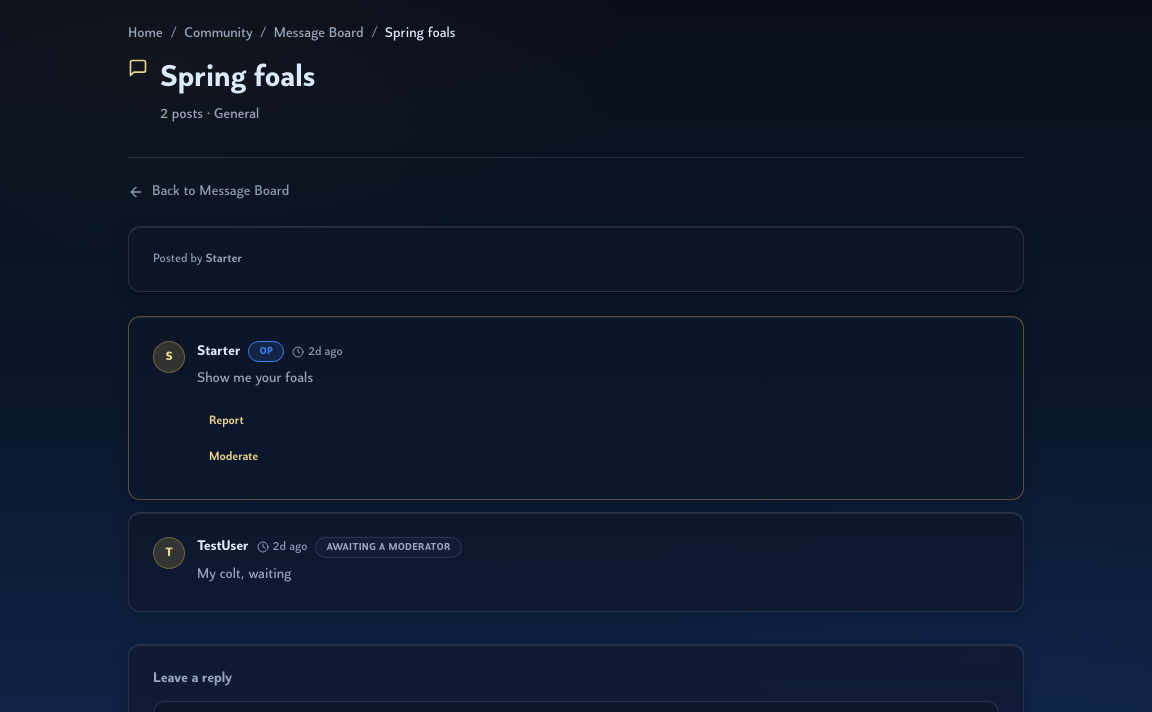
Test case: MessageThreadPage: held posts and steward tools › lets a moderator edit a player's post with a reason, and not their own
Click the button "Moderate": (234,457) [197,439,270,475]
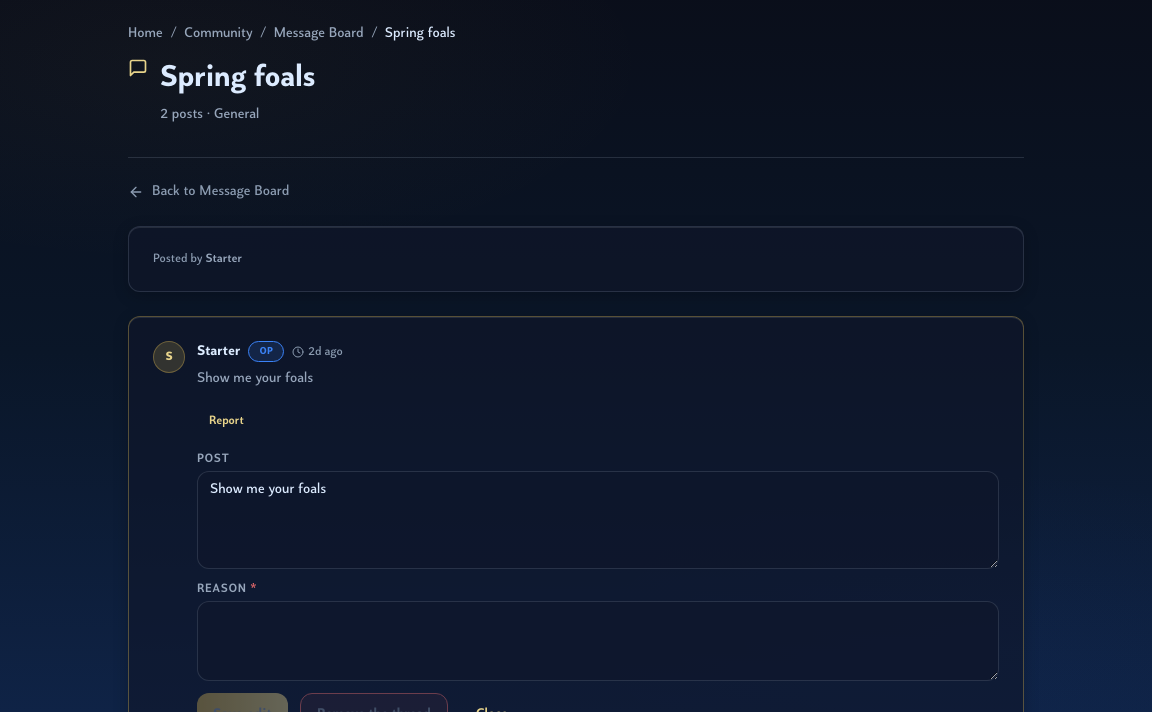
Replace the text in the text box labelled "Post" with "Show me your foals (edited)": (598,520) [197,471,999,569]
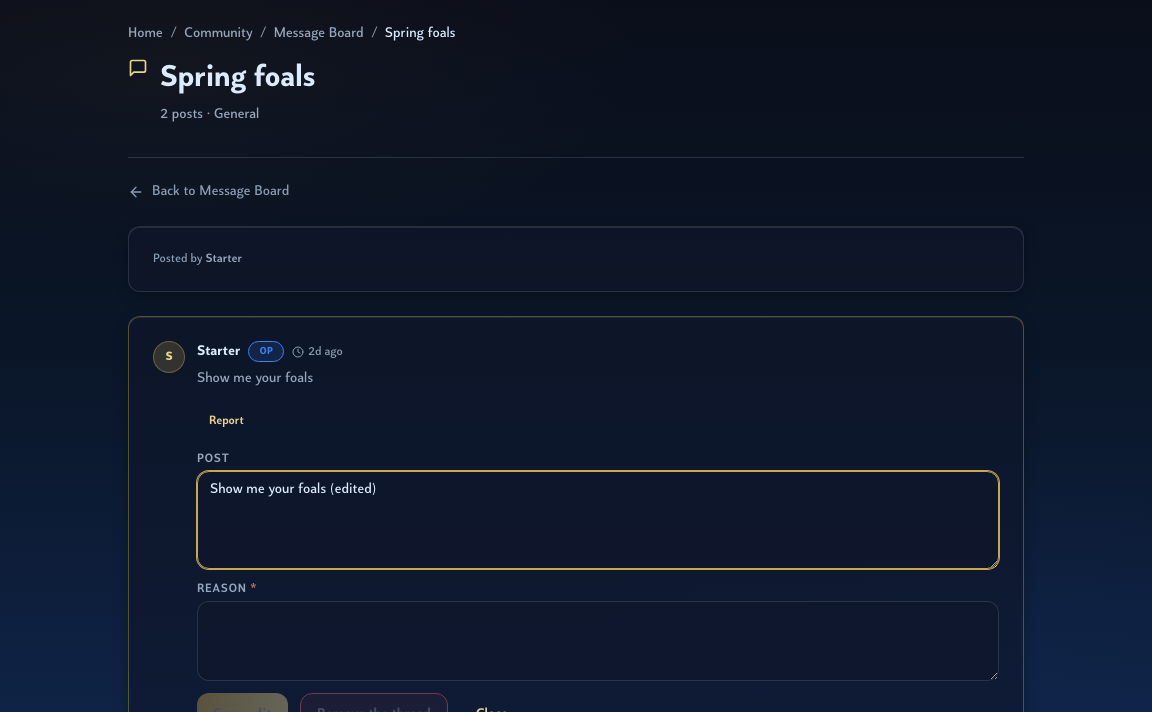
In the text box labelled "Reason *": (598,641) [197,601,999,681], type "Removed a phone number"
(page scrolled)
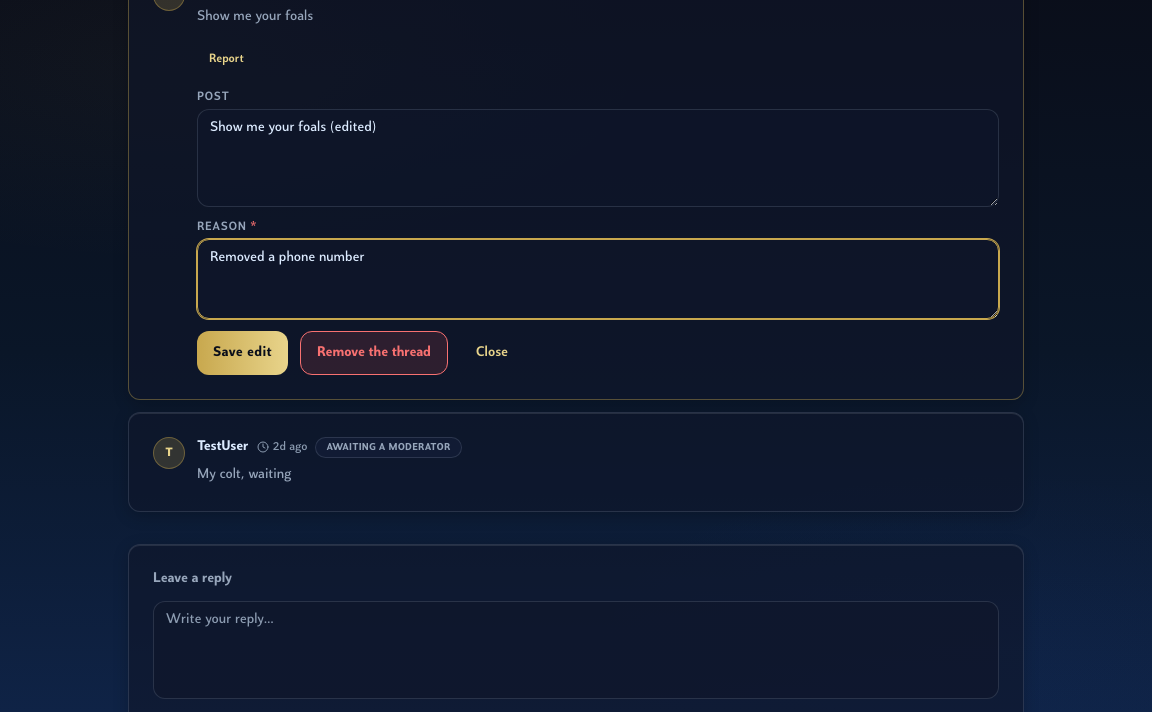
Click the button "Save edit": (242,353) [197,331,288,375]
(page scrolled)
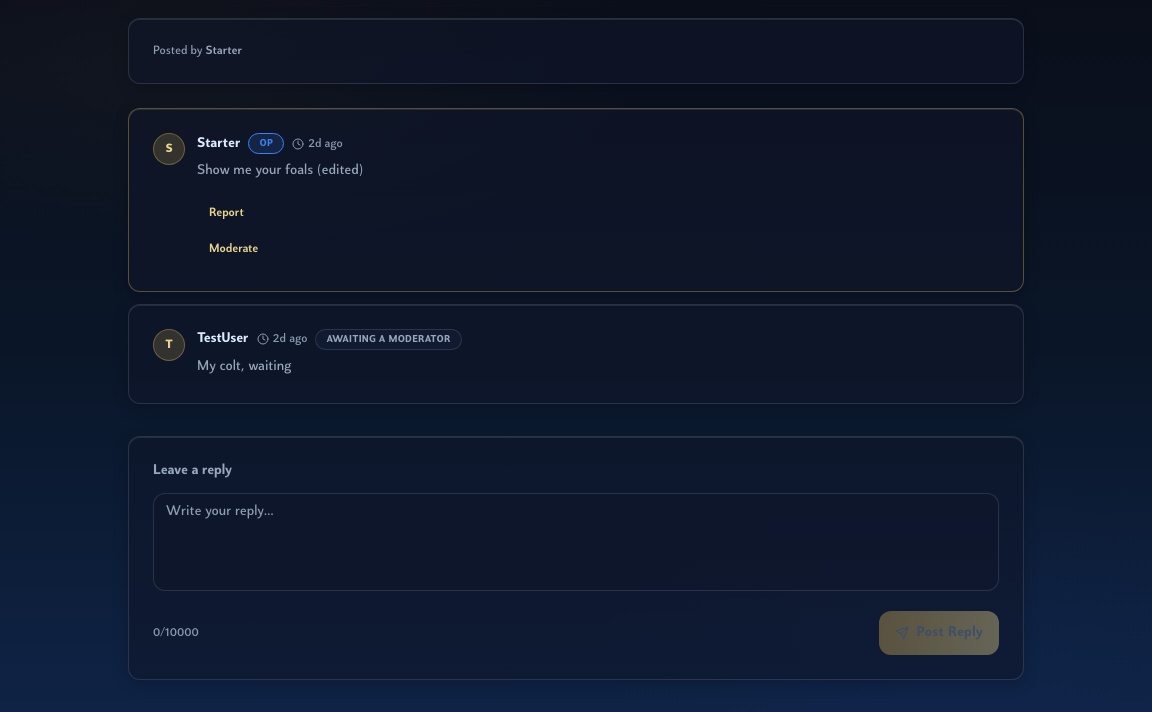
Expected: the text "Show me your foals (edited)" is shown, [197,163,363,178]
Expected: the button "Remove the thread" is gone
